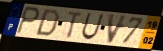7: (122, 16, 146, 45)
D: (34, 8, 61, 37)
P: (15, 5, 41, 35)
T: (66, 11, 84, 39)
U: (80, 12, 105, 41)
V: (106, 13, 129, 45)
